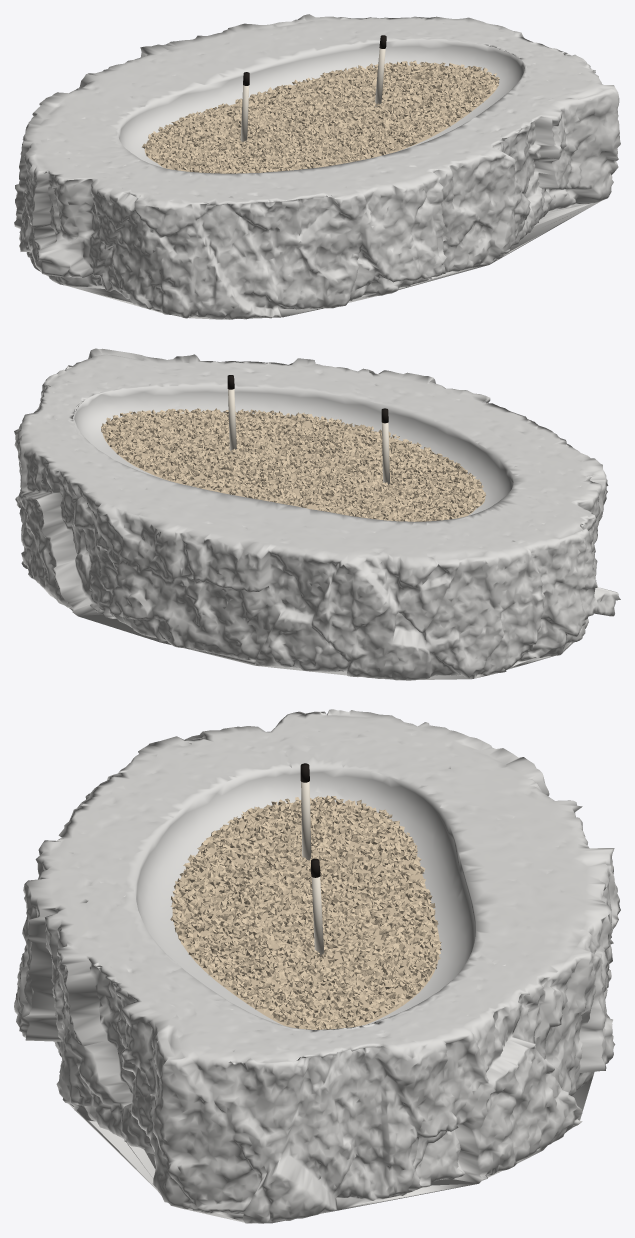
The model's file is laje.glb.
3 views of the same model, one above another, from view 1: azimuth 30°, elevation 25°; view 2: azimuth 150°, elevation 25°; view 3: azimuth 270°, elevation 25° (orthographic). The views are drawn at different scales.
Parts seen in each view (by area): view 1: Laje, Areia, Pavio0; view 2: Laje, Areia, Pavio0; view 3: Laje, Areia, Pavio0.
Part boxes in pixels (x1=…): Laje: x1=14, y1=14, x2=620, y2=319; Areia: x1=142, y1=60, x2=499, y2=173; Pavio0: x1=240, y1=48, x2=385, y2=142; Laje: x1=14, y1=348, x2=620, y2=680; Areia: x1=101, y1=408, x2=485, y2=521; Pavio0: x1=228, y1=389, x2=389, y2=484; Laje: x1=14, y1=709, x2=620, y2=1223; Areia: x1=170, y1=795, x2=441, y2=1029; Pavio0: x1=301, y1=781, x2=324, y2=955.
Bounding box in the file's own units: 0.2099 × 0.06 × 0.1422.
